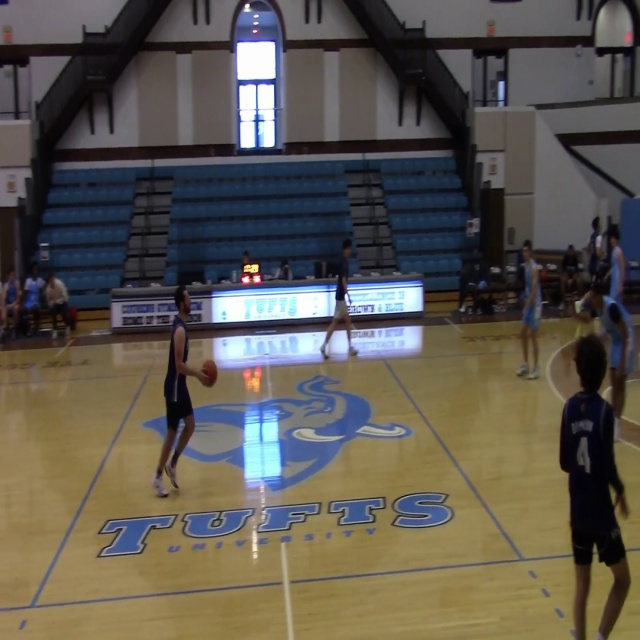Basketball: (199, 359, 218, 387)
